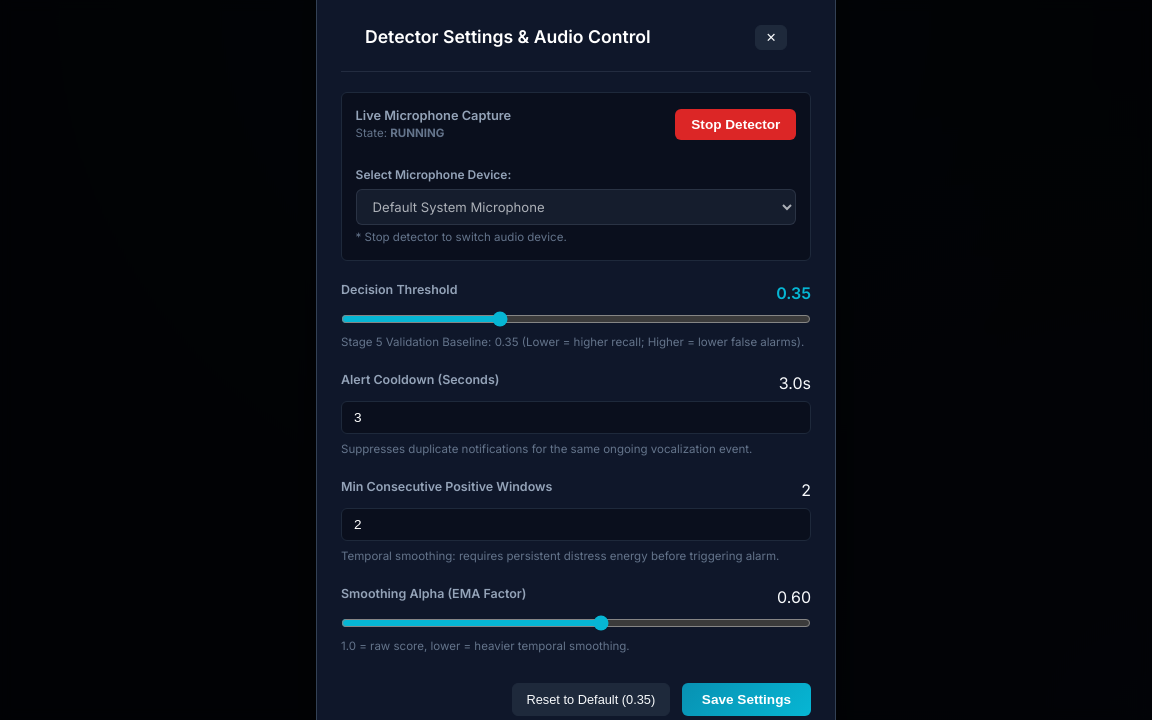
Test: SettingsModal Component › shows confirmation prompt before stopping active detector
Click the button "Stop Detector".
click(736, 124)  # box [675,109,796,140]
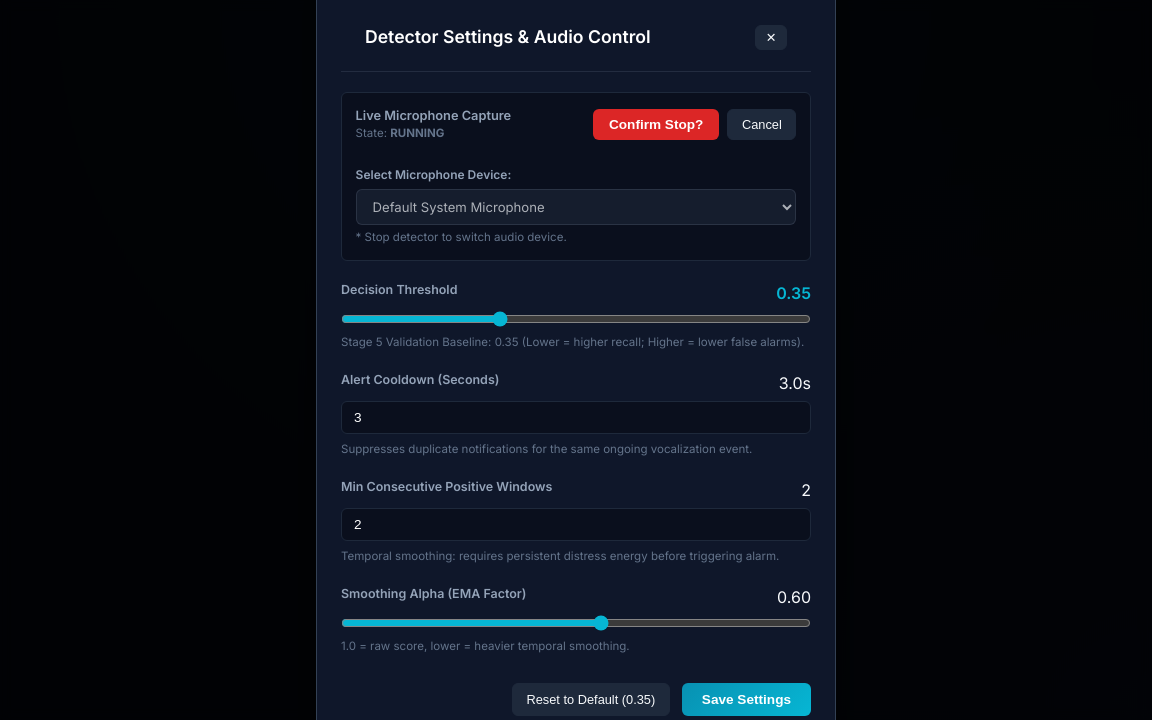
Expected: the button "Confirm Stop?" is shown, [593,109,719,140]
